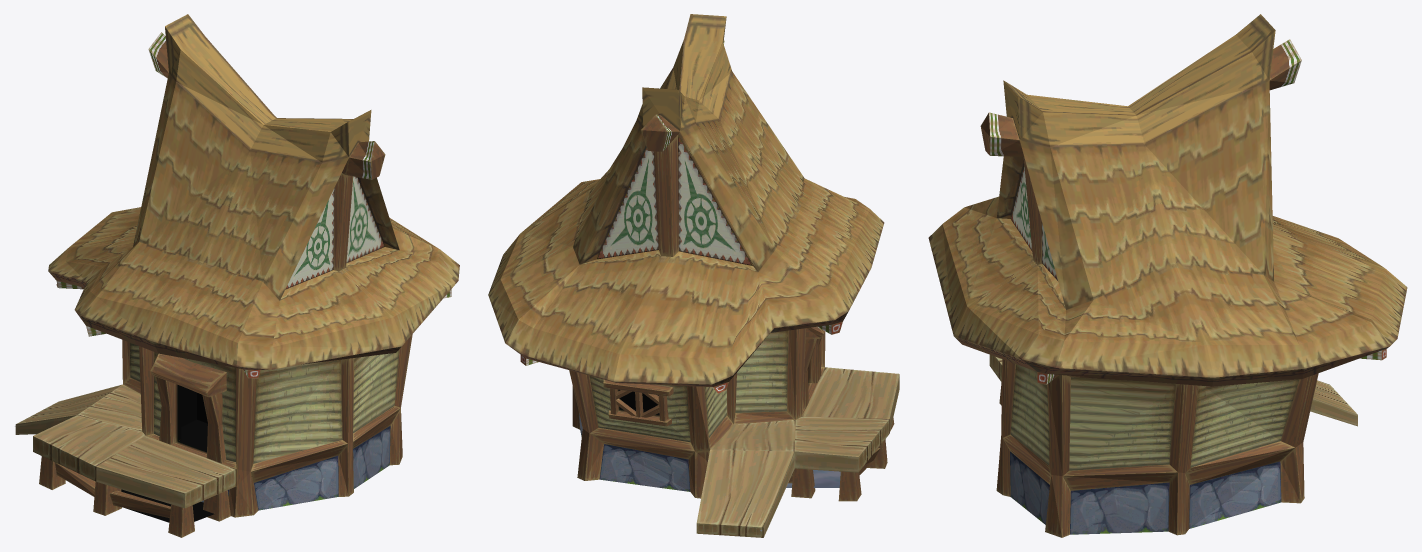
File: Outset Island House1.fbx
3 views of the same model, side by side, from view 1: azimuth 30°, elevation 25°; view 2: azimuth 150°, elevation 25°; view 3: azimuth 270°, elevation 25° (orthographic). The views are drawn at different scales.
Parts seen in each view (by area): view 1: Island.001; view 2: Island.001; view 3: Island.001.
Boxes of the visible parts, x1,y1,x2,y2 form: Island.001: (15, 14, 459, 537); Island.001: (488, 14, 899, 537); Island.001: (928, 14, 1407, 537).
Size of the model in its own units: 133 by 143 by 139.
